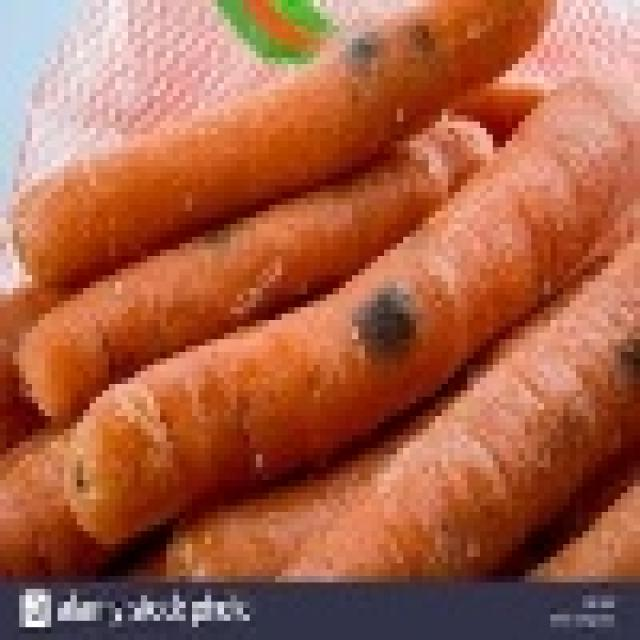Stale_Carrot: (68, 70, 631, 551), (17, 107, 490, 425), (286, 224, 640, 589)
